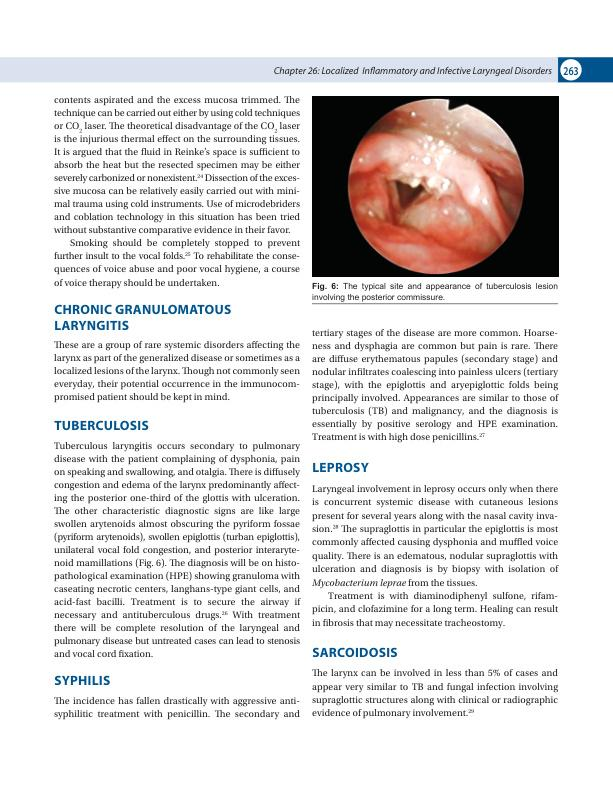caption: (311, 281, 559, 302)
header: (273, 65, 552, 78)
image: (311, 95, 560, 277)
section-heading: (53, 302, 232, 332), (52, 419, 150, 433), (312, 646, 400, 658), (312, 461, 371, 474), (53, 673, 111, 686)
text: (52, 440, 302, 658), (53, 96, 300, 290), (311, 483, 560, 630), (311, 328, 559, 445), (52, 339, 301, 404), (310, 667, 559, 720), (53, 695, 300, 721)
